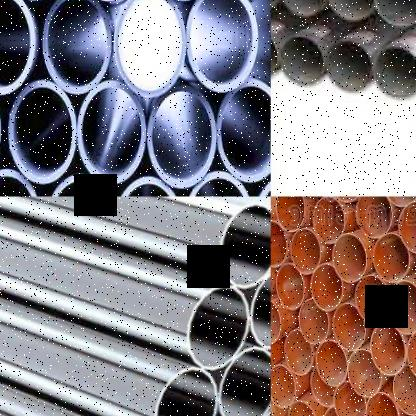pipe: (8, 80, 77, 184), (78, 79, 146, 184), (148, 85, 216, 189), (113, 0, 185, 96), (185, 0, 258, 92), (41, 0, 111, 93), (184, 282, 251, 371), (216, 79, 271, 181), (213, 202, 271, 288), (216, 343, 271, 416), (148, 366, 218, 416), (0, 0, 36, 95), (322, 38, 374, 96), (277, 34, 326, 87), (371, 44, 416, 100), (370, 322, 407, 376), (373, 232, 410, 283), (248, 269, 270, 350), (332, 233, 367, 283), (355, 275, 389, 325), (348, 349, 382, 398), (185, 172, 253, 196), (386, 279, 416, 333), (312, 196, 345, 244), (310, 264, 343, 312), (333, 303, 366, 351), (46, 174, 114, 197), (355, 196, 392, 238), (315, 339, 348, 386), (298, 298, 330, 344), (114, 176, 183, 197), (290, 228, 321, 274), (284, 330, 314, 376), (276, 264, 304, 310), (373, 0, 416, 29), (392, 364, 416, 415), (323, 0, 376, 23), (333, 380, 366, 416), (271, 364, 296, 408), (0, 170, 41, 196), (310, 366, 336, 405), (276, 197, 304, 232), (398, 201, 416, 254), (277, 0, 326, 19), (365, 391, 399, 416), (271, 220, 287, 266), (287, 398, 318, 416), (406, 329, 416, 382), (271, 298, 282, 344), (322, 405, 353, 416)
